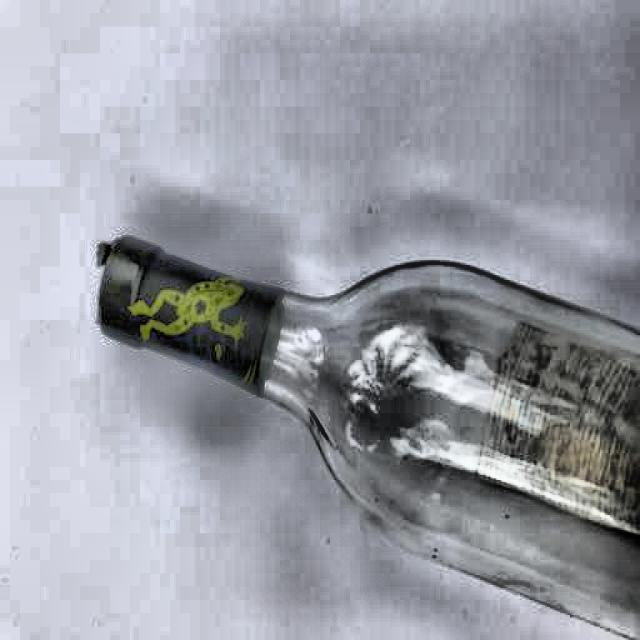glass: (88, 236, 640, 636)
